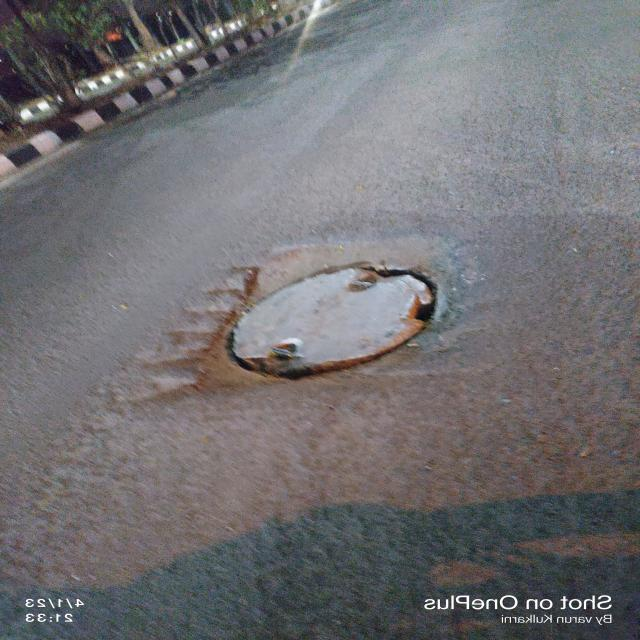manhole: (152, 245, 476, 388)
